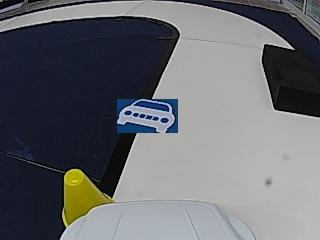block: (262, 44, 318, 116)
cone: (64, 169, 114, 205)
